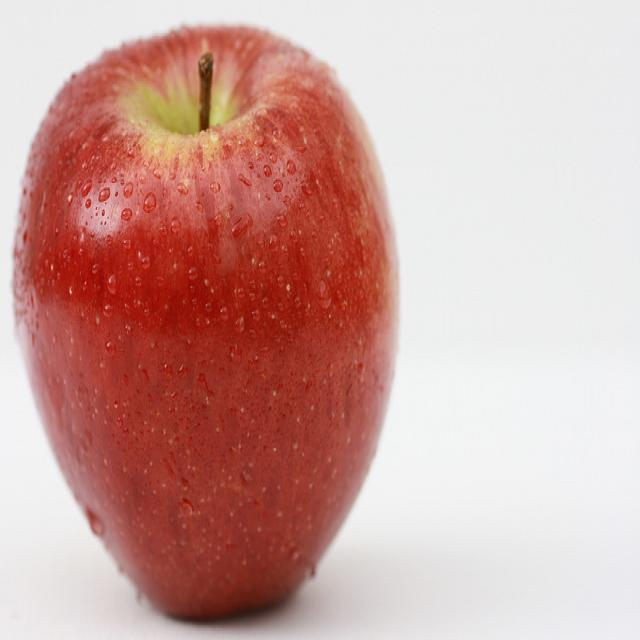Apple: (17, 19, 405, 630)
